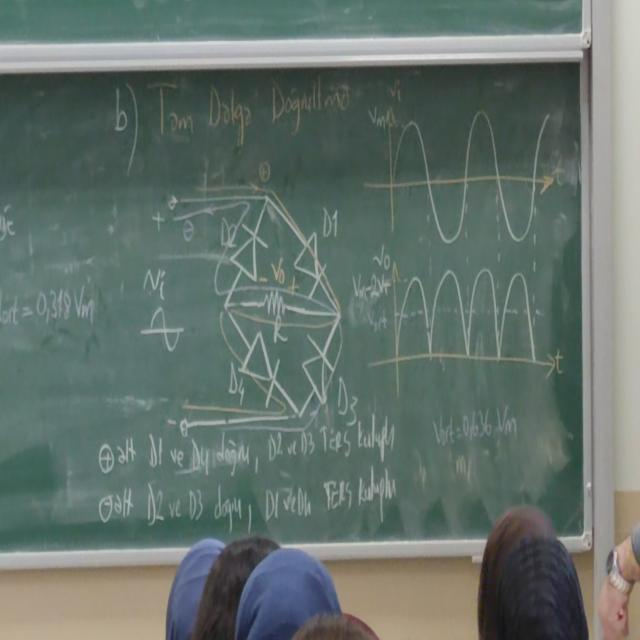image: (154, 176, 355, 442), (362, 74, 564, 253), (362, 252, 576, 418)
text: (106, 425, 411, 534), (144, 74, 352, 142)
